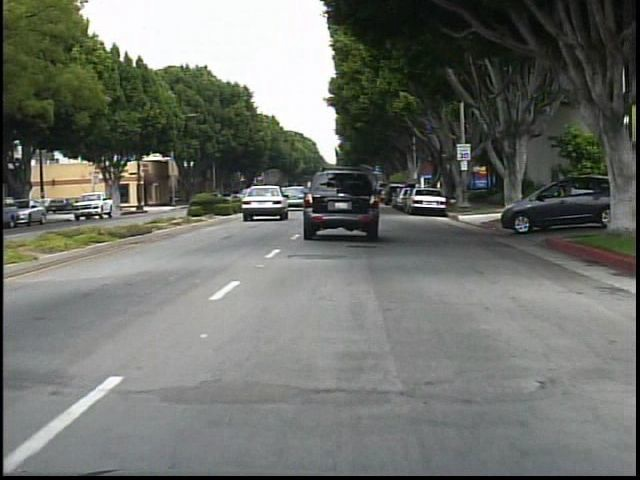person: (502, 169, 522, 212)
